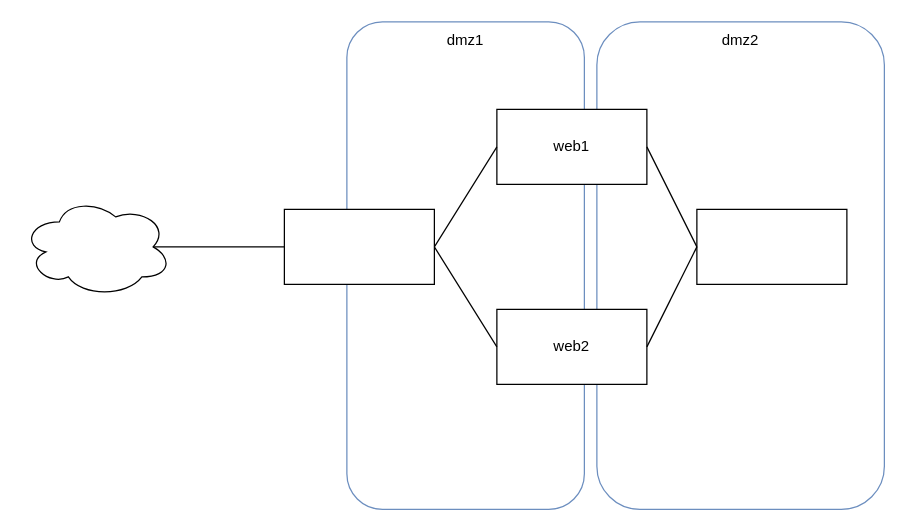
The diagram is 906 pixels wide and 531 high, and some of its shapes have lost their labels. Here are the shapes that lost their labels. From the top down, the centre of each, then its label:
point (358, 246): load balancer
point (771, 246): bdd
